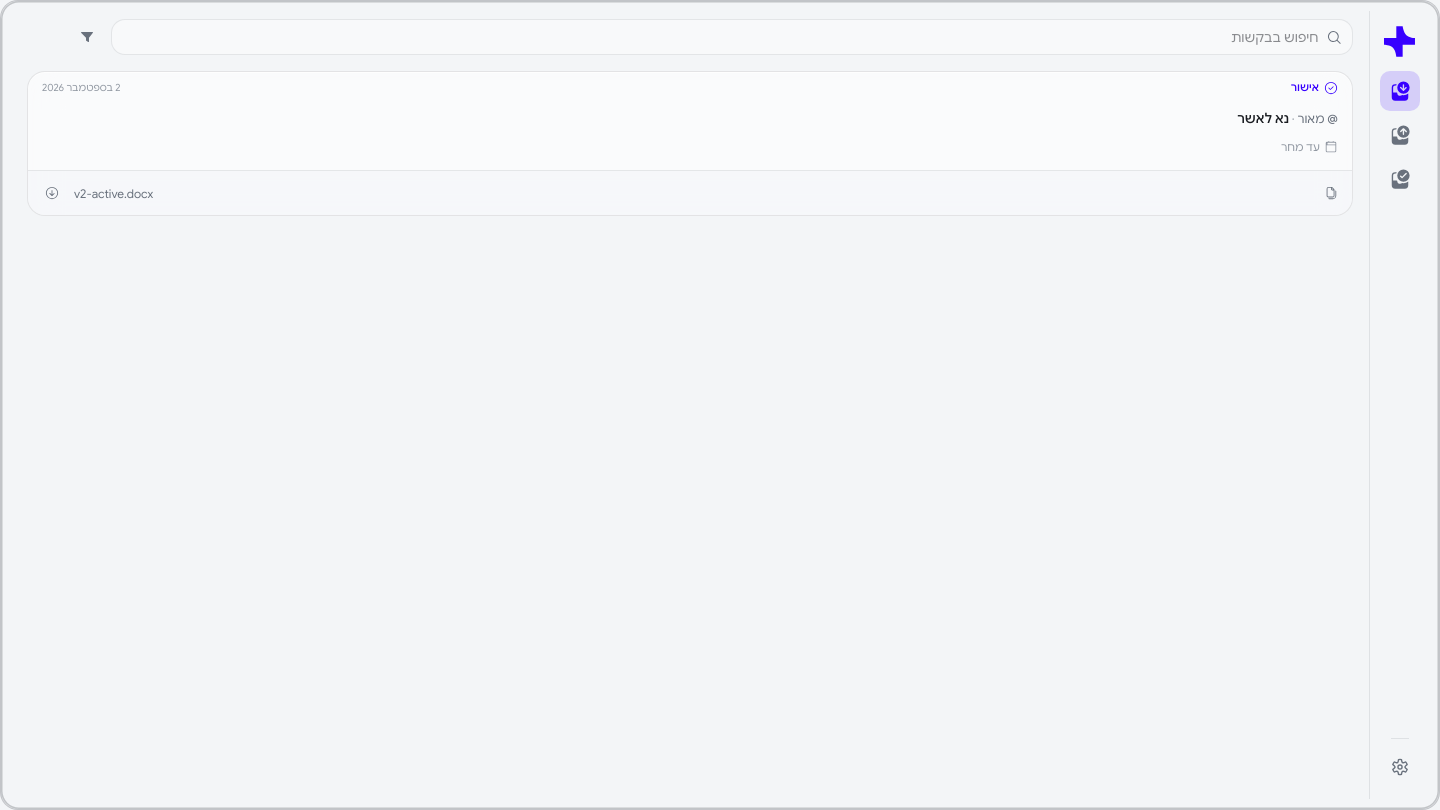
Test: local request search › applies the same query only to the active section
The width and height of the screenshot is (1440, 810).
Type "v2-completed" into the search field labelled "חיפוש בבקשות" at (720, 37), box left=122, top=20, right=1318, bottom=54
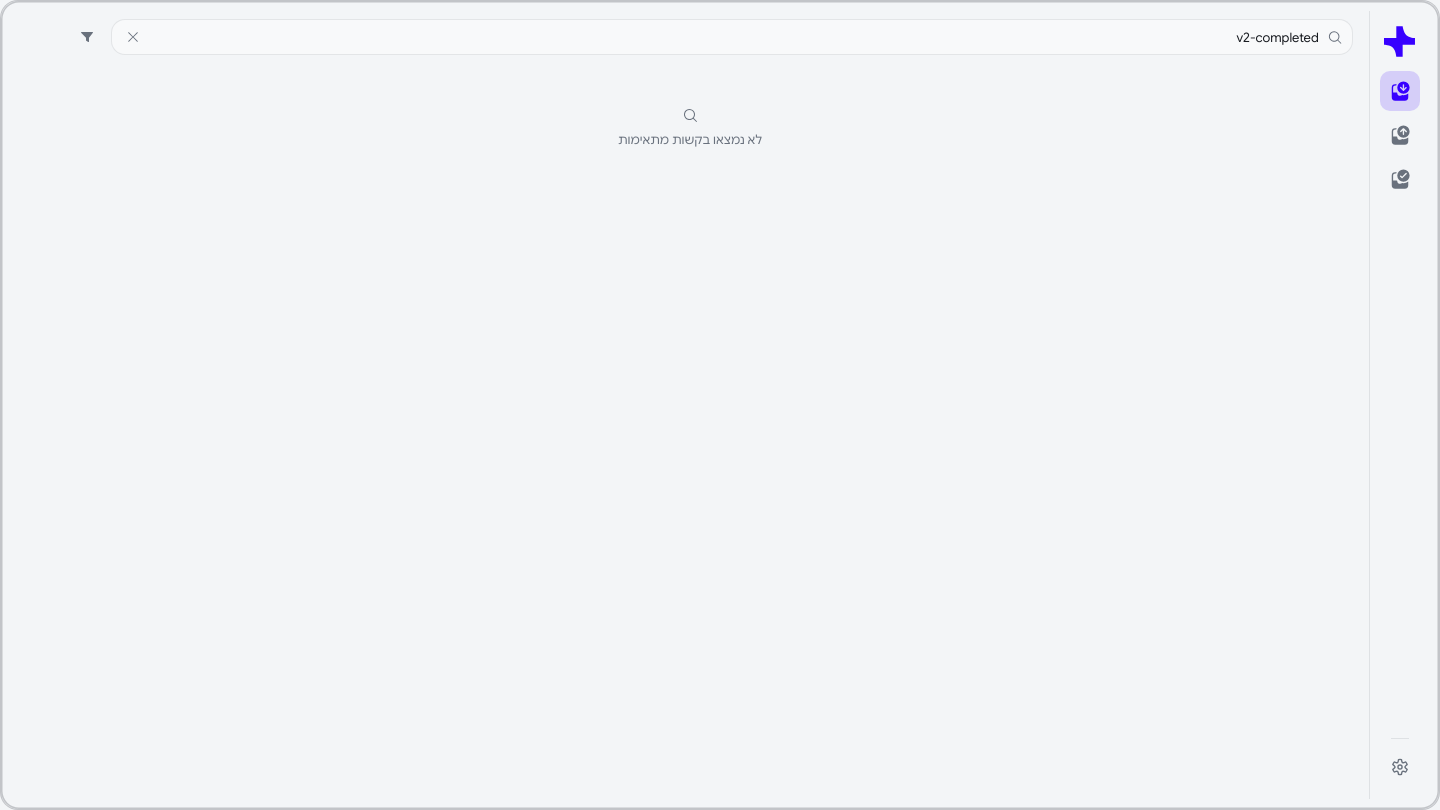
Now the text "לא נמצאו בקשות מתאימות" is shown, box left=618, top=131, right=762, bottom=149
Now the button titled "v2-active.docx" is gone
Click the tab named "הושלם" at (1400, 179), box left=1380, top=159, right=1420, bottom=199
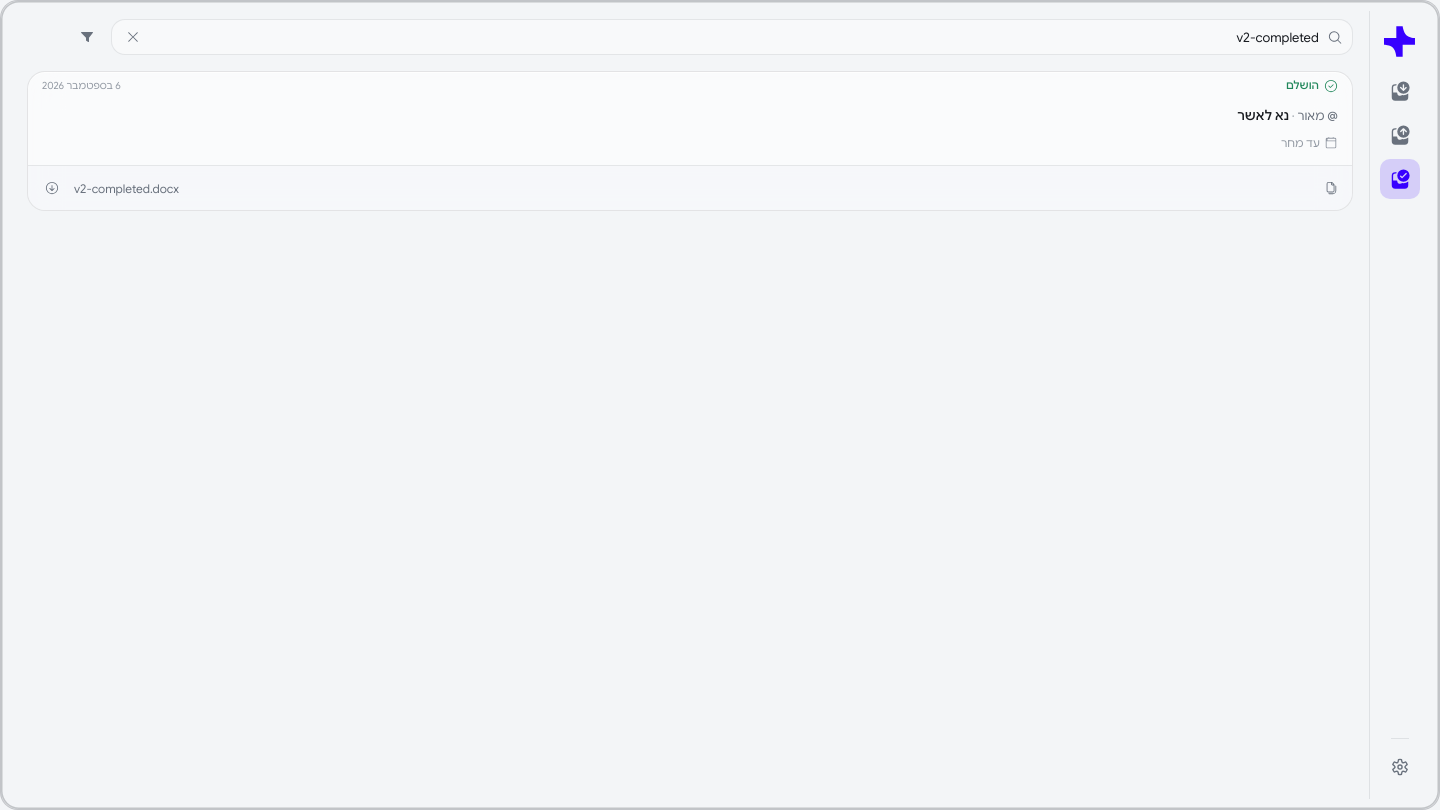
Now the text titled "v2-completed.docx" is shown, box left=74, top=181, right=179, bottom=196
Now the text "לא נמצאו בקשות מתאימות" is gone
